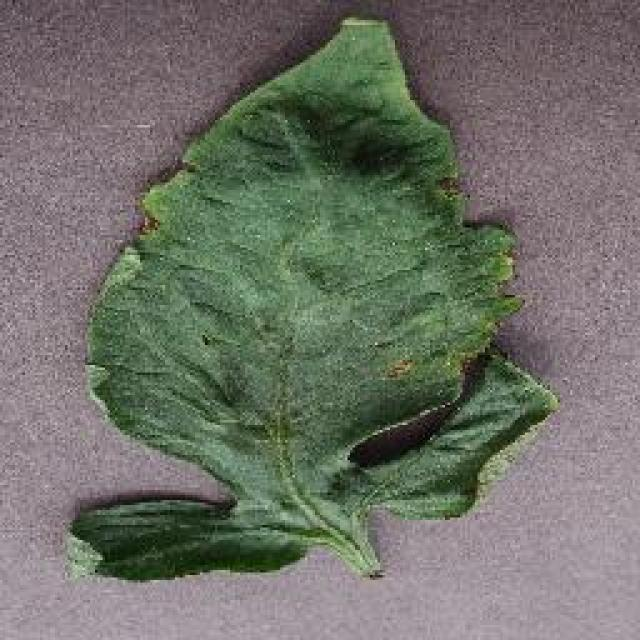Tomato___Target_Spot: (72, 20, 555, 578)
